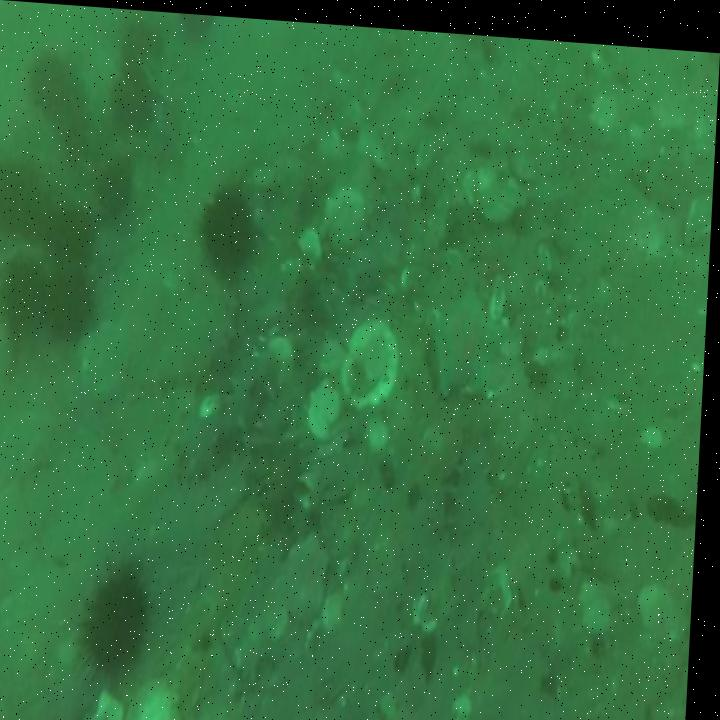echinus: (90, 565, 154, 664), (203, 185, 259, 277), (43, 267, 97, 344), (0, 251, 47, 329), (46, 209, 99, 269), (28, 54, 76, 117), (111, 69, 154, 134), (96, 157, 140, 220)
holothurian: (446, 434, 501, 645), (185, 350, 271, 483)
scallop: (340, 312, 406, 409)
starfish: (432, 284, 511, 395)
